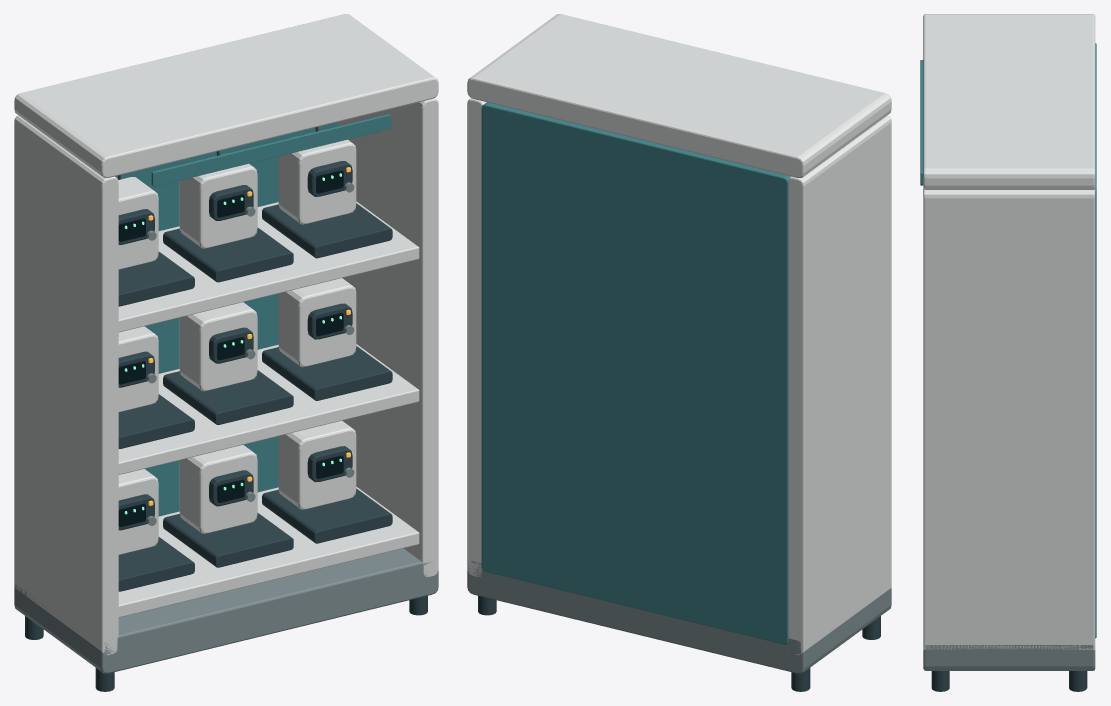
Rendered from equipment-charging-station.glb.
3 views of the same model, side by side, from view 1: azimuth 30°, elevation 25°; view 2: azimuth 150°, elevation 25°; view 3: azimuth 270°, elevation 25° (orthographic). The views are drawn at different scales.
Parts seen in each view (by area): view 1: equipment-charging-station-batch (×5); view 2: equipment-charging-station-batch (×4); view 3: equipment-charging-station-batch (×4).
Boxes of the visible parts, left/top/right/bottom form: equipment-charging-station-batch (×5): left=14, top=14, right=438, bottom=691; equipment-charging-station-batch (×4): left=467, top=14, right=891, bottom=691; equipment-charging-station-batch (×4): left=920, top=14, right=1096, bottom=691.
Size of the model in its own units: 0.99 by 1.51 by 0.4615.
